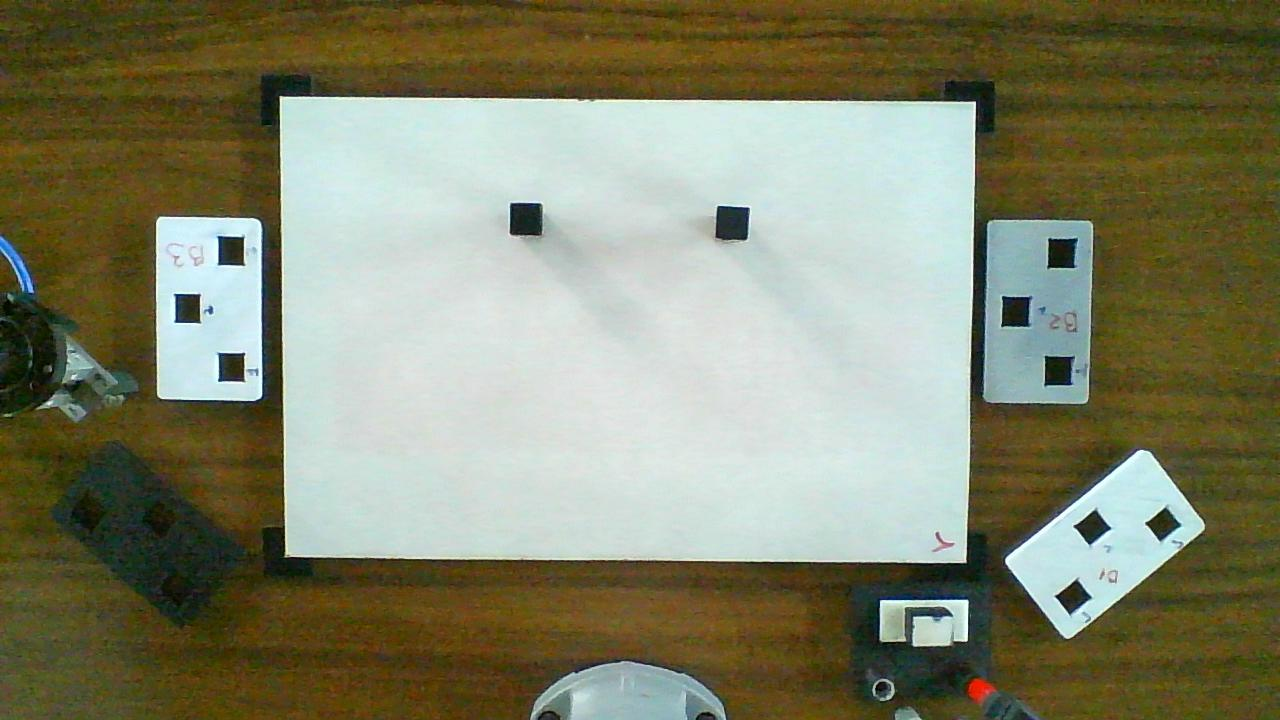peca_preta: (716, 207, 749, 239), (510, 204, 541, 234)
